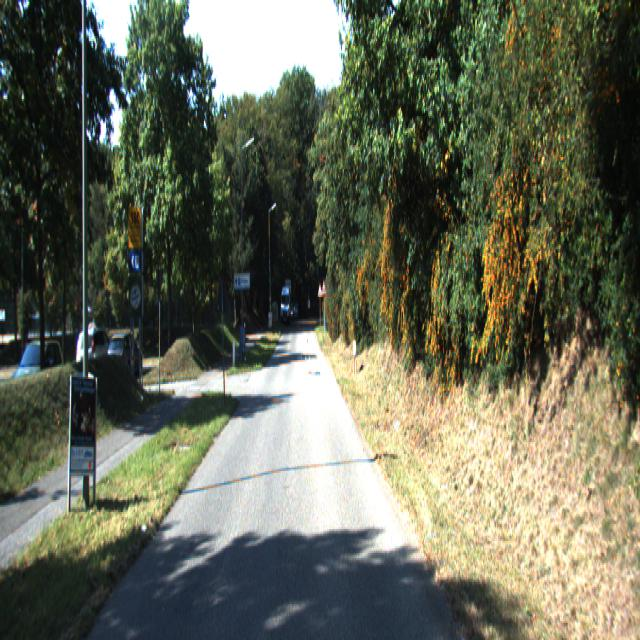Car: (6, 335, 68, 421), (75, 327, 115, 385), (106, 329, 142, 384)
